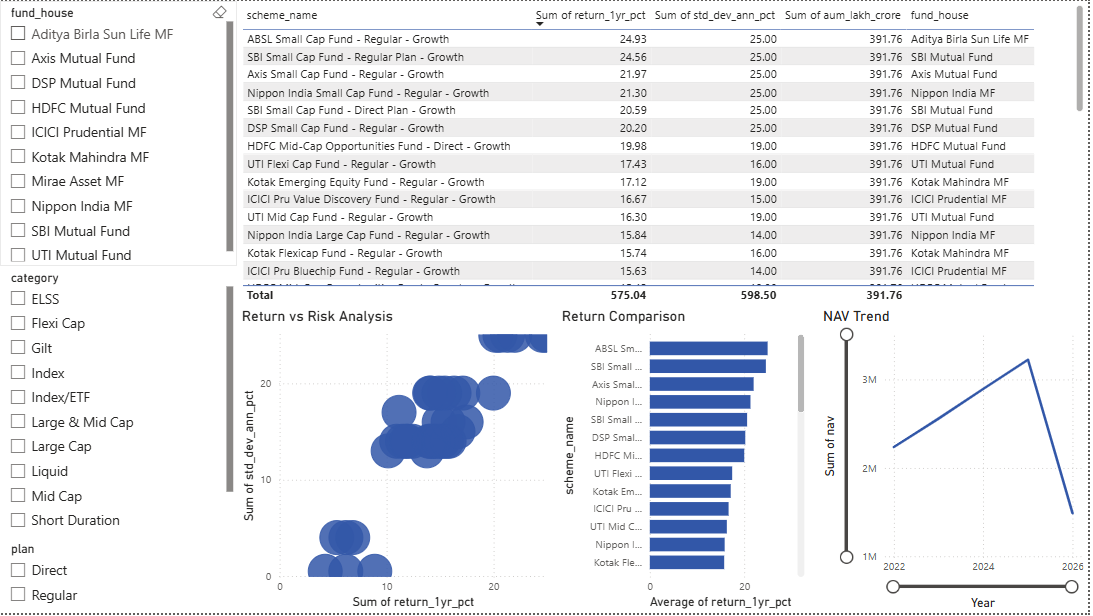

The page's visual inventory and layout, read from the dashboard file:
{"tool":"powerbi","page":{"name":"Fund Performance ","canvas":[1280,720],"ordinal":1},"visuals":[{"type":"scatterChart","title":"Return vs Risk Analysis","fields":{"X":["Sum(Scheme Performance.return_1yr_pct)"],"Y":["Sum(Scheme Performance.std_dev_ann_pct)"],"Size":["Sum(AUM by Fund House.aum_lakh_crore)"],"Category":["Scheme Performance.scheme_name"]},"box":[279.4,360.3,376.5,360.3],"z":0},{"type":"slicer","fields":{"Values":["Scheme Performance.fund_house"]},"box":[0,0,279.4,311.8],"z":1000},{"type":"slicer","fields":{"Values":["Scheme Performance.category"]},"box":[0,311.8,279.4,319.1],"z":2000},{"type":"slicer","fields":{"Values":["Scheme Performance.plan"]},"box":[0,630.9,279.4,89.7],"z":3000},{"type":"lineChart","title":"NAV Trend","fields":{"Category":["NAV History.date.Variation.Date Hierarchy.Year","NAV History.date.Variation.Date Hierarchy.Quarter","NAV History.date.Variation.Date Hierarchy.Month","NAV History.date.Variation.Date Hierarchy.Day"],"Y":["Sum(NAV History.nav)"]},"box":[963.2,360.3,316.2,360.3],"z":4000},{"type":"tableEx","fields":{"Values":["Scheme Performance.scheme_name","Sum(Scheme Performance.return_1yr_pct)","Sum(Scheme Performance.std_dev_ann_pct)","Sum(AUM by Fund House.aum_lakh_crore)","Scheme Performance.fund_house"]},"box":[279.4,0,1000,360.3],"z":5000},{"type":"clusteredBarChart","title":"Return Comparison ","fields":{"Y":["Avg(Scheme Performance.return_1yr_pct)"],"Category":["Scheme Performance.scheme_name"]},"box":[655.9,360.3,295.6,360.3],"z":6000}]}

Visuals, with their boxes on the page's 1280x720 design canvas (x1, y1, x2, y2). These are canvas units, not pixel positions in the 1093x616 screenshot, which may show the page scaled, cropped or inside an application window:
"Return vs Risk Analysis" scatterChart: 279:360:656:721
slicer - Scheme Performance.fund_house: 0:0:279:312
slicer - Scheme Performance.category: 0:312:279:631
slicer - Scheme Performance.plan: 0:631:279:721
"NAV Trend" lineChart: 963:360:1279:721
tableEx - Scheme Performance.scheme_name x Sum(Scheme Performance.return_1yr_pct): 279:0:1279:360
"Return Comparison " clusteredBarChart: 656:360:952:721
